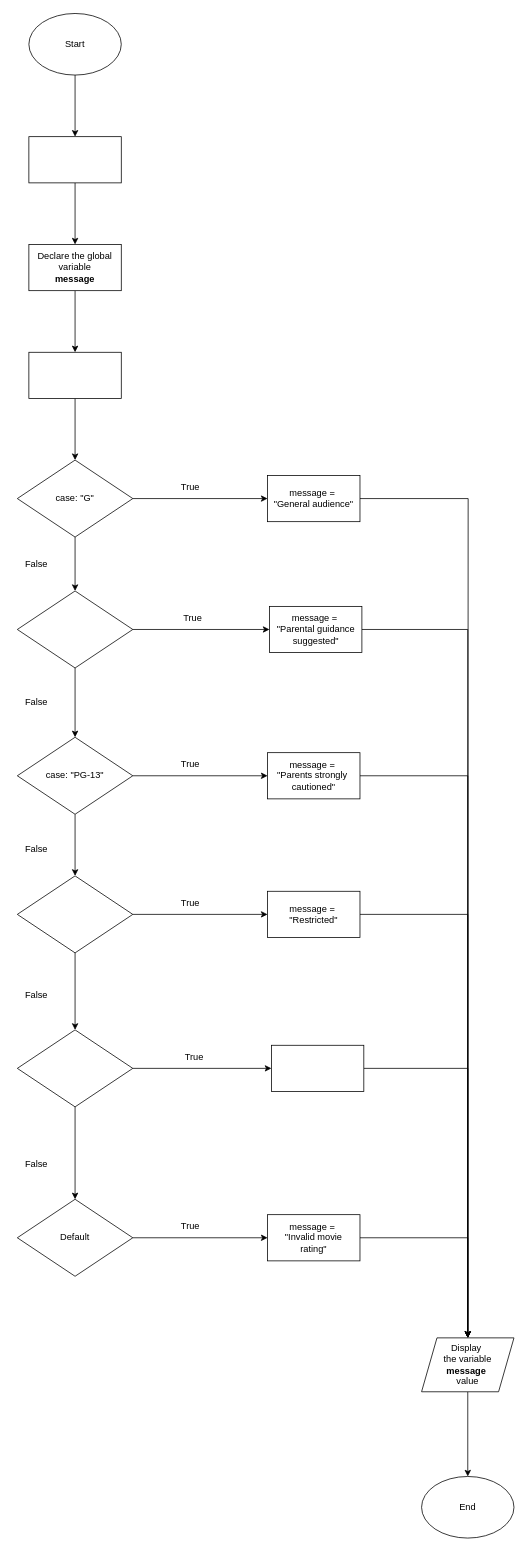
This 527x1552 diagram has some shape labels left out. The shapes that lost their labels are listed below. From the top down, each one's centre as x and y in pixels, then its label:
the point at 74,159: Store in a variable the movie rating rating
the point at 74,375: switch(rating)
the point at 75,629: case: "PG"
the point at 75,914: case: "R"
the point at 75,1068: case: "NC-17"
the point at 317,1068: message = "Adults only"
